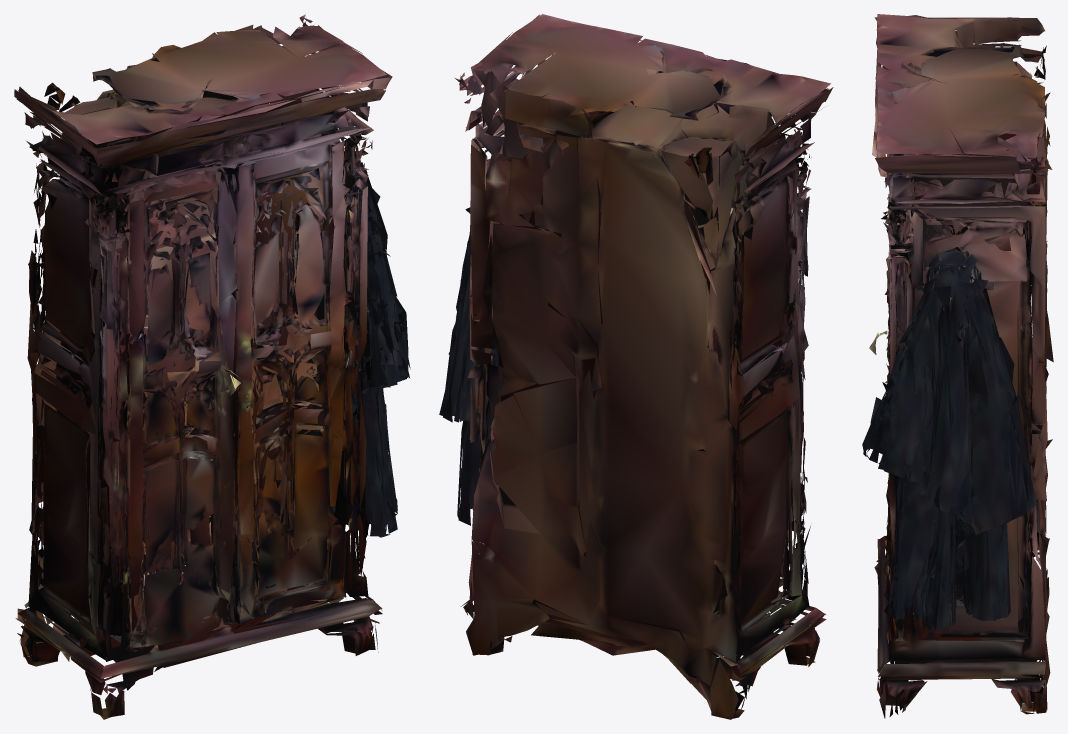
File: wardrobe.glb
3 views of the same model, side by side, from view 1: azimuth 30°, elevation 25°; view 2: azimuth 150°, elevation 25°; view 3: azimuth 270°, elevation 25° (orthographic). The views are drawn at different scales.
Parts seen in each view (by area): view 1: wardrobe_body; view 2: wardrobe_body; view 3: wardrobe_body.
Boxes of the visible parts, x1,y1,x2,y2 form: wardrobe_body: (14, 14, 410, 719); wardrobe_body: (439, 14, 833, 719); wardrobe_body: (862, 14, 1053, 718).
Bounding box in the file's own units: 1.36 × 2.22 × 0.6727.
Materials: 1 (1 with a texture image).
